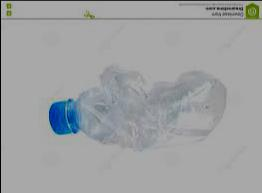Plastic: (46, 54, 234, 160)
